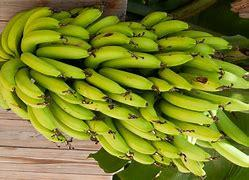banana: (0, 7, 241, 175), (75, 5, 244, 174), (0, 12, 89, 133)
